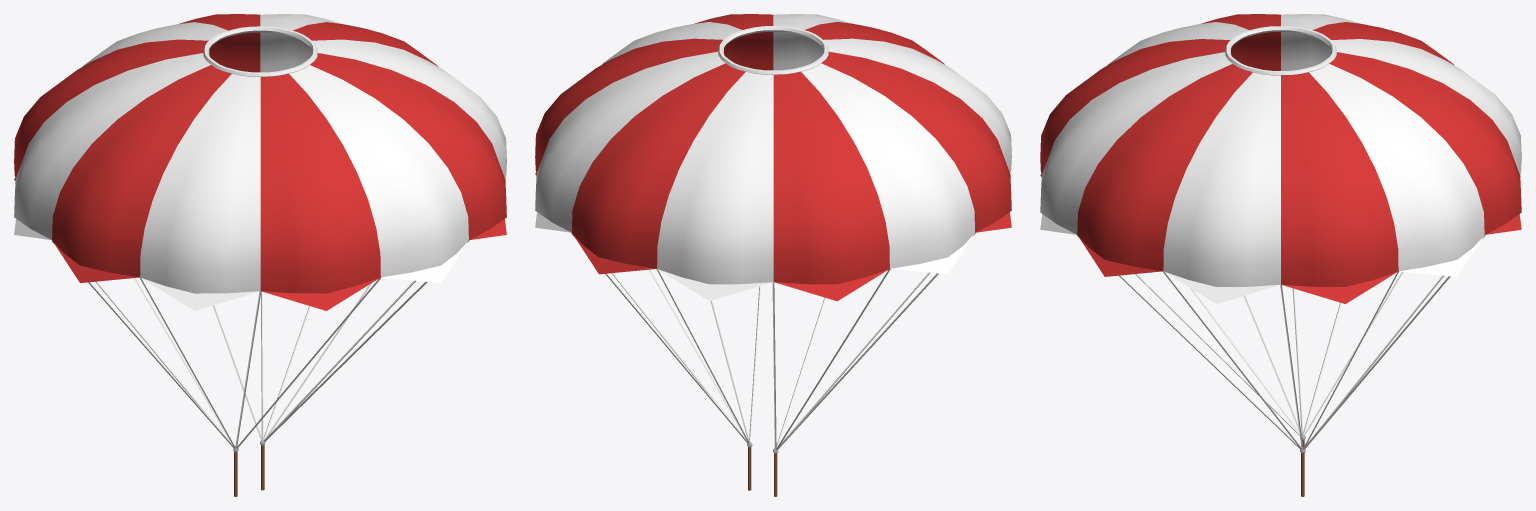
The model's file is PS_Parachute.glb.
3 views of the same model, side by side, from view 1: azimuth 30°, elevation 25°; view 2: azimuth 150°, elevation 25°; view 3: azimuth 270°, elevation 25° (orthographic). The views are drawn at different scales.
Parts seen in each view (by area): view 1: Parachute; view 2: Parachute; view 3: Parachute.
Part boxes in pixels (left/top/right/bottom): Parachute: left=14, top=14, right=506, bottom=496; Parachute: left=535, top=14, right=1011, bottom=496; Parachute: left=1040, top=14, right=1521, bottom=496.
Bounding box in the file's own units: 1.14 × 1.16 × 1.14.
3 materials, 3 textured.
